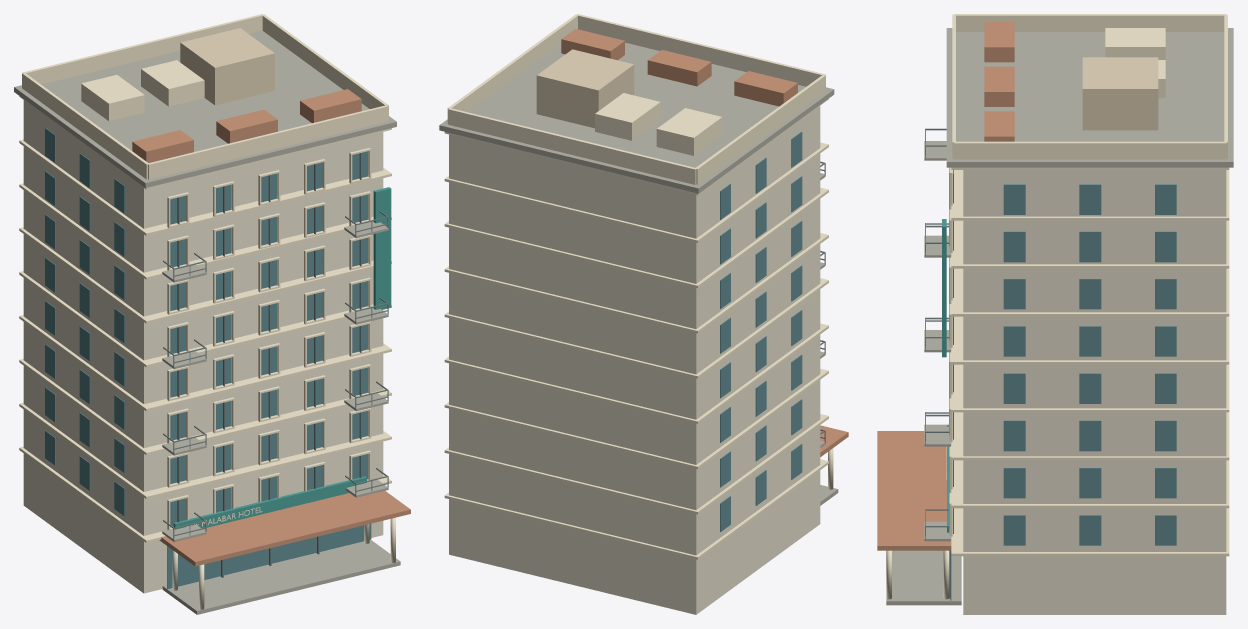
The model's file is hotel-medium.glb.
3 renders of one model, left to right at view 1: azimuth 30°, elevation 25°; view 2: azimuth 150°, elevation 25°; view 3: azimuth 270°, elevation 25°, orthographic. The views are drawn at different scales.
Visible parts, largest first — view 1: hotel_PLASTER_LIGHT, hotel_CREAM, hotel_GLASS, hotel_CONCRETE, hotel_TERRACOTTA, hotel_PLASTER, hotel_METAL, hotel_AWNING; view 2: hotel_PLASTER_LIGHT, hotel_CREAM, hotel_CONCRETE, hotel_GLASS, hotel_PLASTER, hotel_TERRACOTTA; view 3: hotel_PLASTER_LIGHT, hotel_CREAM, hotel_CONCRETE, hotel_GLASS, hotel_TERRACOTTA, hotel_PLASTER, hotel_METAL, hotel_AWNING.
Boxes of the visible parts, x1,y1,x2,y2 form: hotel_PLASTER_LIGHT: (23,100,383,593); hotel_CREAM: (19,14,395,609); hotel_GLASS: (45,128,371,588); hotel_CONCRETE: (14,30,400,614); hotel_TERRACOTTA: (132,89,410,566); hotel_PLASTER: (180,28,274,105); hotel_METAL: (163,153,388,577); hotel_AWNING: (173,187,391,529); hotel_PLASTER_LIGHT: (449,106,820,614); hotel_CREAM: (444,14,833,559); hotel_CONCRETE: (439,42,838,505); hotel_GLASS: (720,131,802,531); hotel_PLASTER: (536,49,634,128); hotel_TERRACOTTA: (561,28,848,456); hotel_PLASTER_LIGHT: (963,170,1226,614); hotel_CREAM: (886,14,1229,599); hotel_CONCRETE: (886,28,1233,605); hotel_GLASS: (950,170,1176,600); hotel_TERRACOTTA: (877,22,1014,550); hotel_PLASTER: (1082,57,1158,130); hotel_METAL: (925,128,950,598); hotel_AWNING: (942,219,949,532).
Bounding box in the file's own units: 21 × 36.3 × 23.6.
